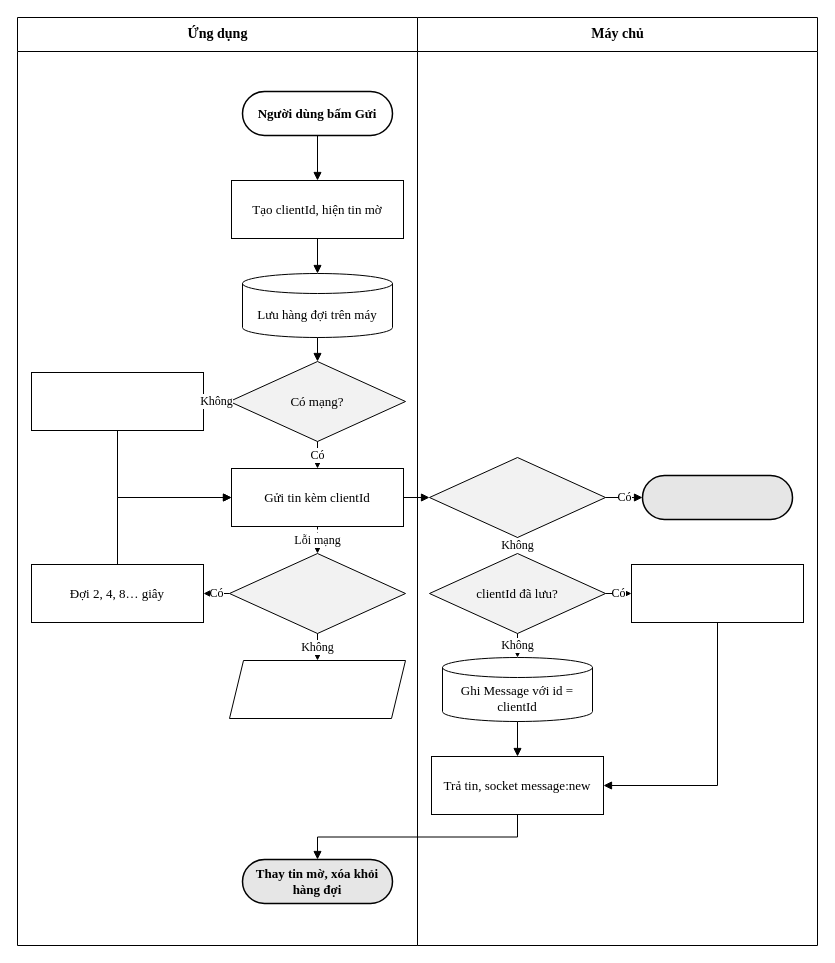
The diagram is 835 pixels wide and 963 high, and some of its shapes have lost their labels. Here are the shapes that lost their labels. From the top down, the box of each, then its label:
(30, 372, 204, 430): Chờ có mạng lại
(428, 456, 606, 538): Bị luật chặn?
(641, 474, 793, 520): Trả lỗi; app gỡ tin, không thử lại
(228, 552, 406, 634): Thử dưới 5 lần?
(630, 564, 804, 622): Trả tin cũ, không tạo mới
(228, 660, 406, 718): Tin đỏ: Chạm để gửi lại
